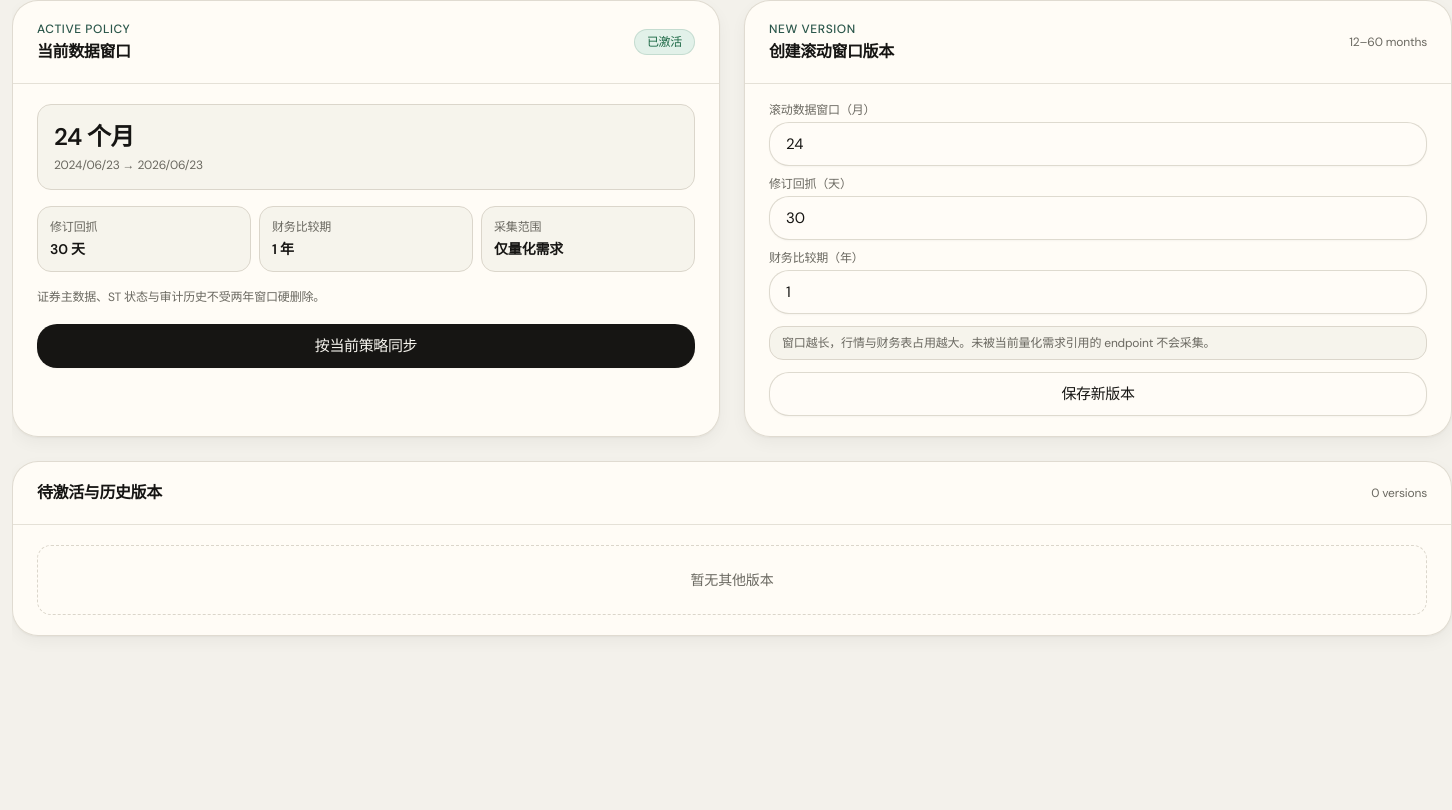
Test: data policy creates a version and exposes activation separately
The image size is (1452, 810).
Expected: the text "24 个月" is shown, [54, 121, 134, 152]
Replace the text in the number field named "滚动数据窗口（月）" with "36" at (1098, 144), box [769, 122, 1427, 166]
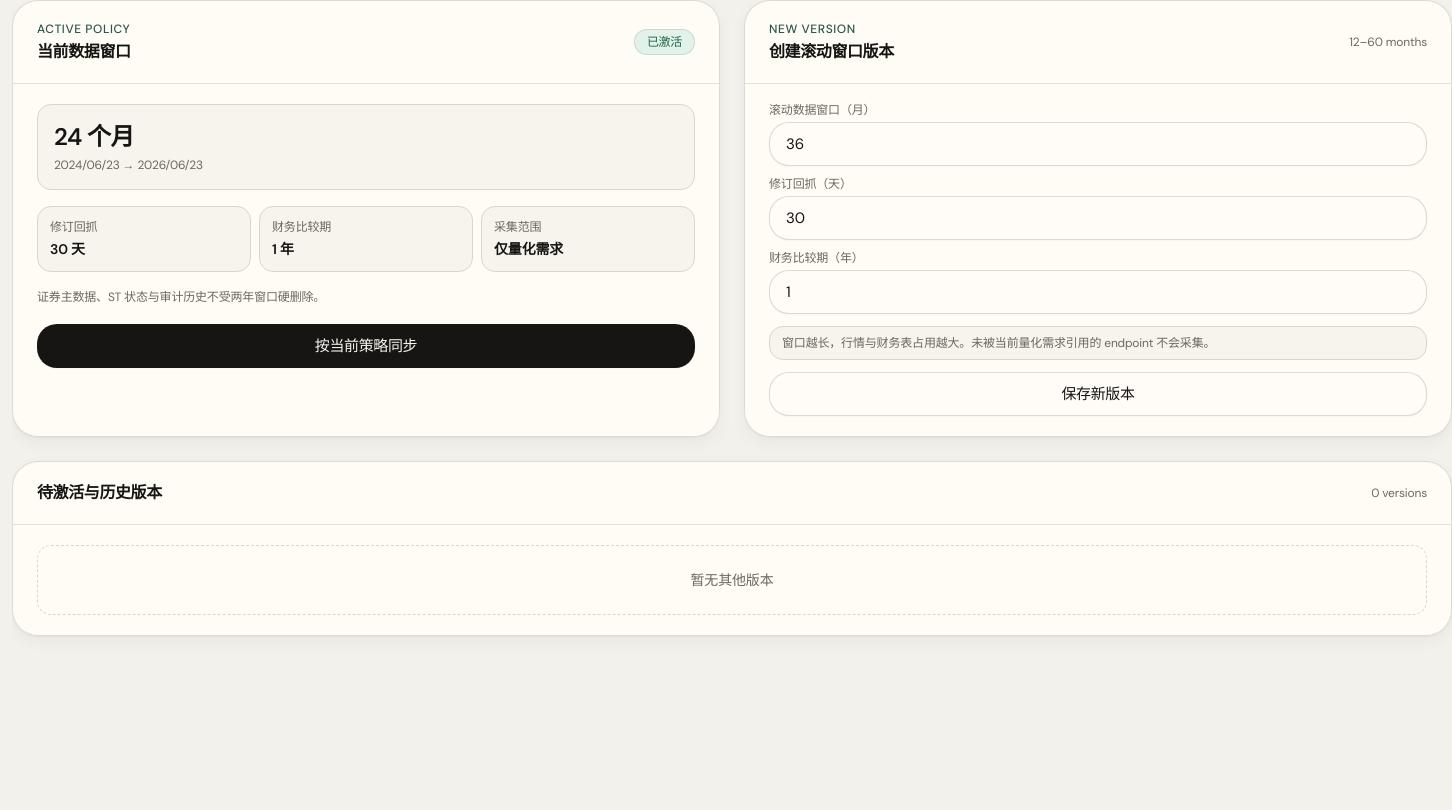
Click the button "保存新版本" at (1098, 394), box [769, 372, 1427, 416]
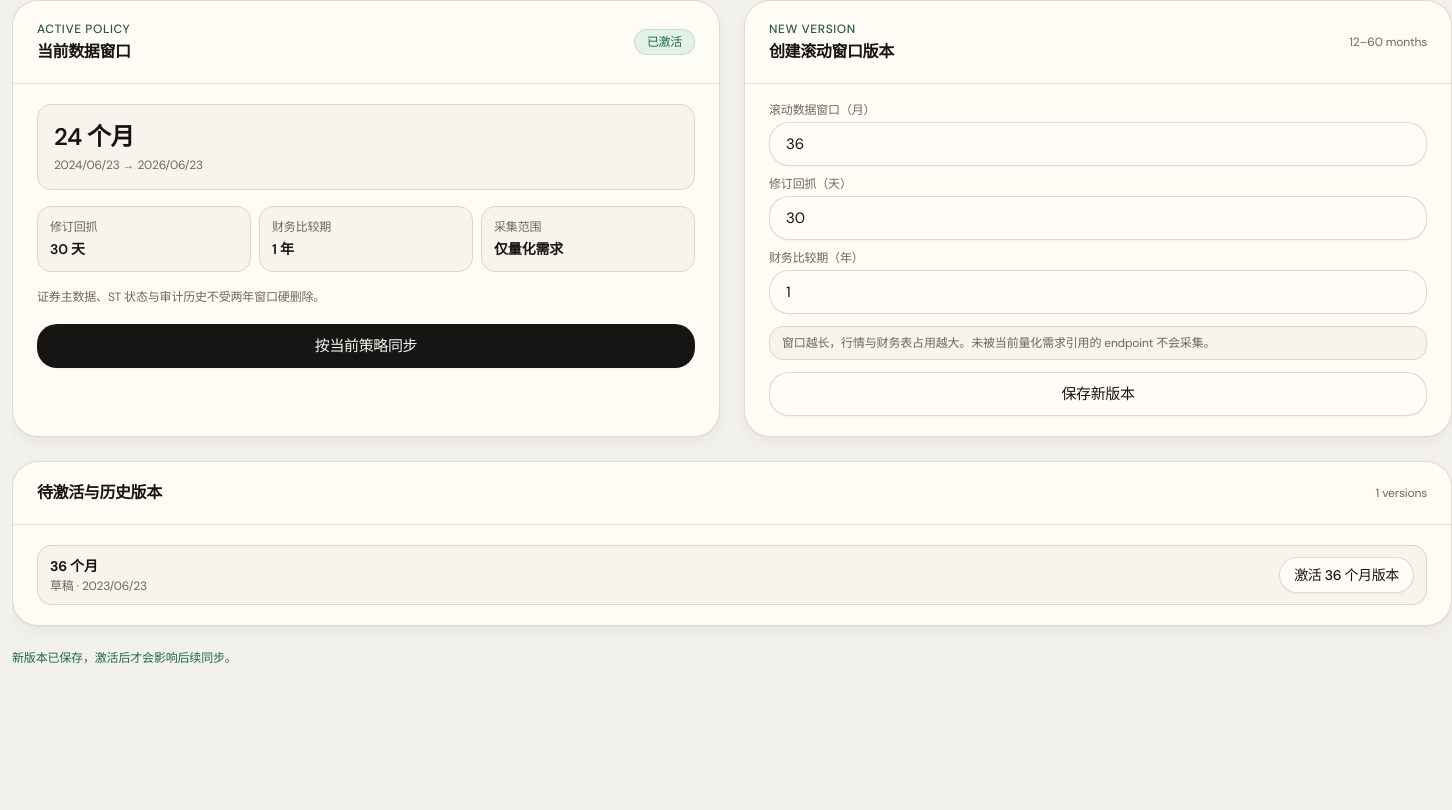
Expected: the text "新版本已保存，激活后才会影响后续同步。" is shown, [12, 650, 237, 666]
Click the button "激活 36 个月版本" at (1347, 575), box [1279, 557, 1414, 593]
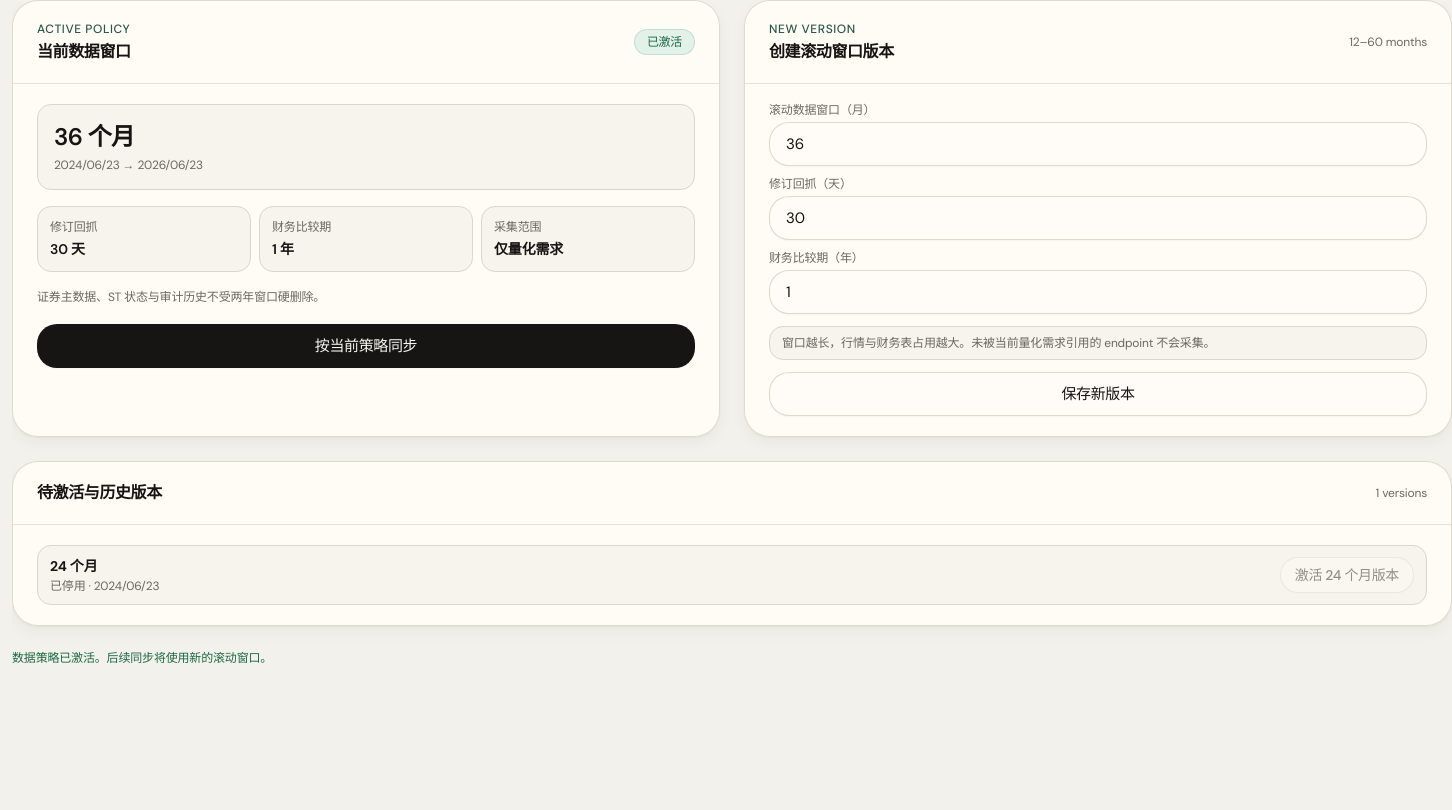
Expected: the text "36 个月" is shown, [54, 121, 134, 152]
